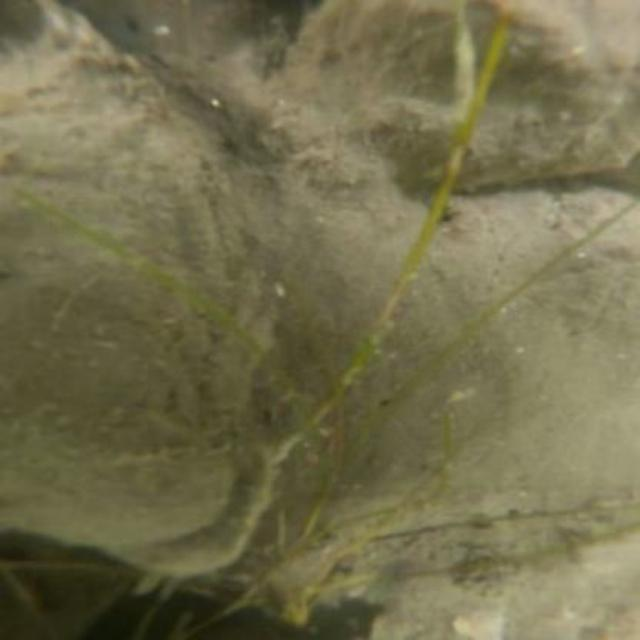Oyster-Closed: (279, 0, 511, 187), (460, 0, 638, 193)
Oyster-Open: (4, 2, 278, 578)
